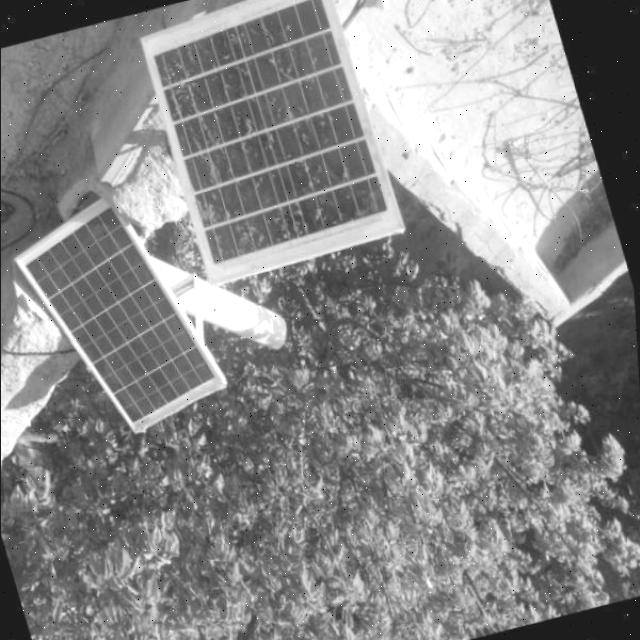Normal Solar Panel: (9, 182, 240, 448)
